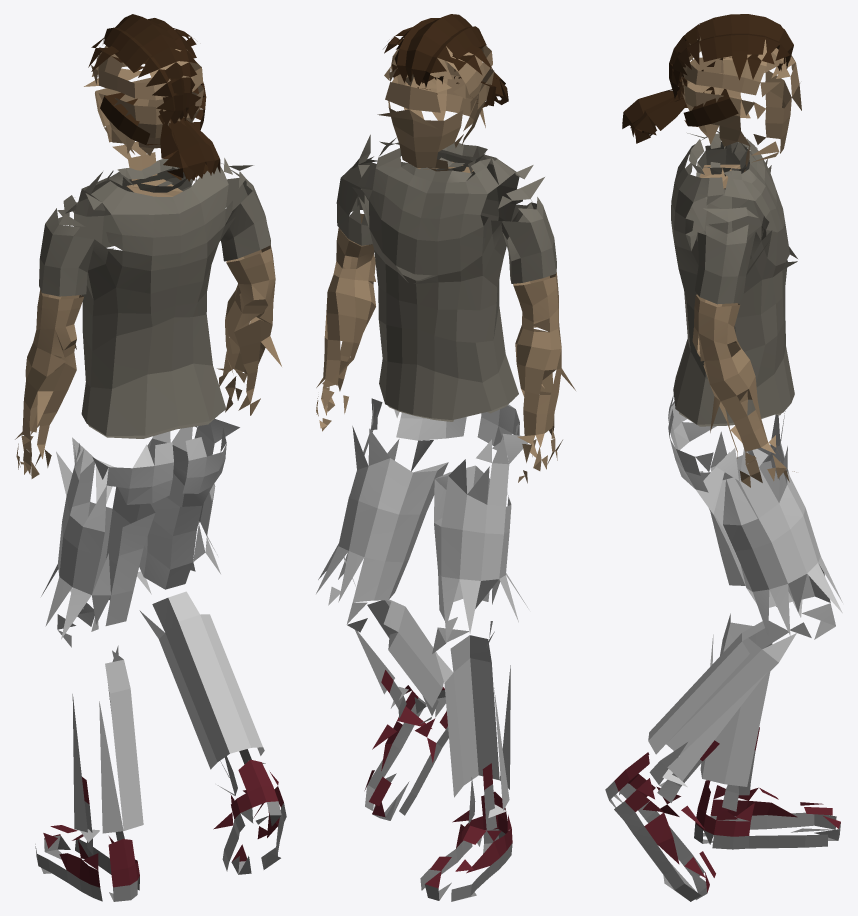
File: person_9_w1.fbx
3 renders of one model, left to right at view 1: azimuth 30°, elevation 25°; view 2: azimuth 150°, elevation 25°; view 3: azimuth 270°, elevation 25°, orthographic. The views are drawn at different scales.
Visible parts, largest first — view 1: Casual2_Feet; view 2: Casual2_Feet; view 3: Casual2_Feet.
Part boxes in pixels (x1,y1,x2,y2): Casual2_Feet: [15, 14, 286, 901]; Casual2_Feet: [316, 14, 575, 901]; Casual2_Feet: [605, 14, 842, 901].
Bounding box in the file's own units: 0.2999 × 0.999 × 0.2547.
